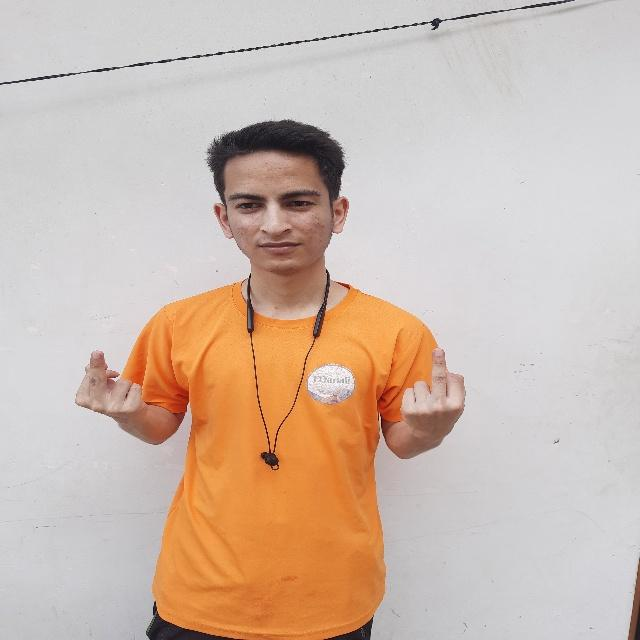Middle Finger: (392, 344, 474, 447), (70, 343, 157, 436)
